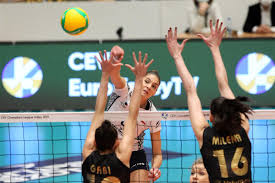ball: (59, 7, 90, 36)
